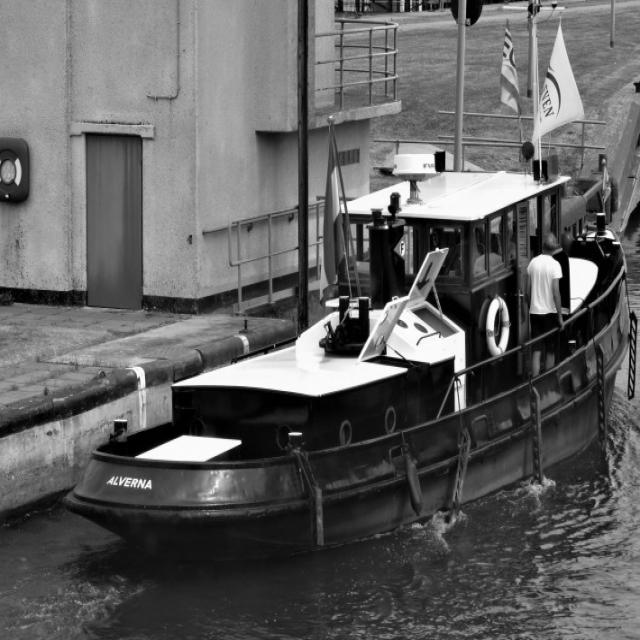tugboat: (58, 1, 640, 576)
